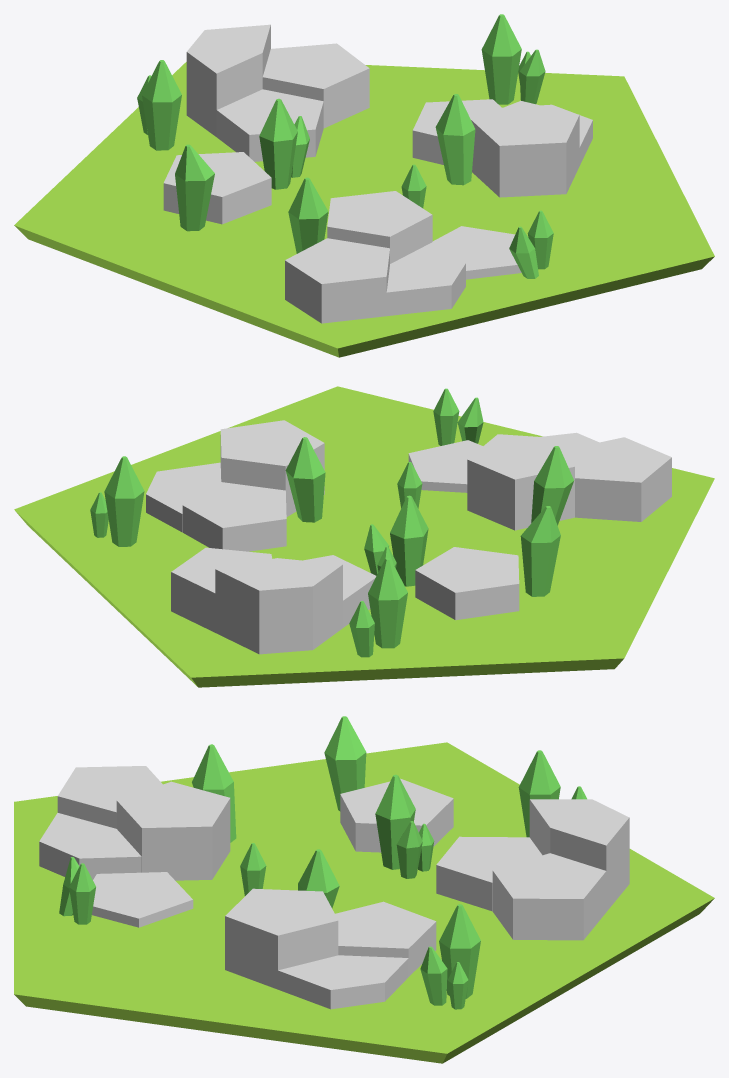
Rendered from RockTilesCrystal_green2.fbx.
3 renders of one model, top to bottom at view 1: azimuth 30°, elevation 25°; view 2: azimuth 150°, elevation 25°; view 3: azimuth 270°, elevation 25°, orthographic. The views are drawn at different scales.
Parts seen in each view (by area): view 1: origine.006; view 2: origine.006; view 3: origine.006.
Boxes of the visible parts, left/top/right/bottom form: origine.006: left=14, top=14, right=714, bottom=357; origine.006: left=14, top=386, right=714, bottom=687; origine.006: left=14, top=716, right=714, bottom=1063.
Bounding box in the file's own units: 111 × 17.38 × 105.
